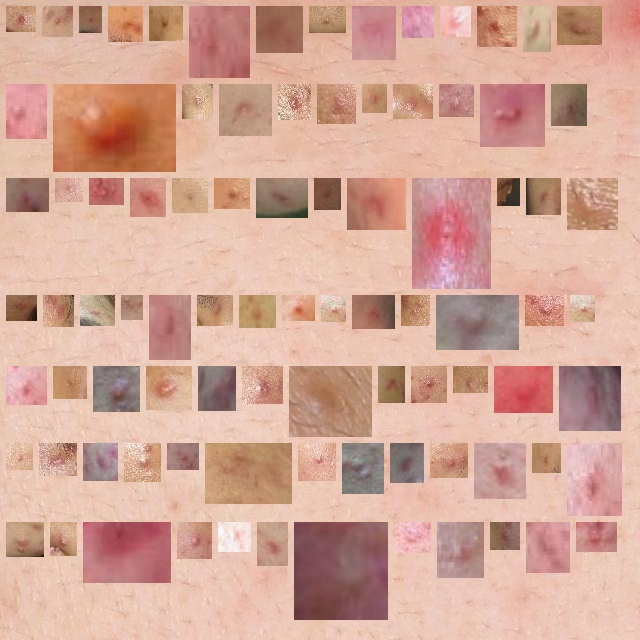papule: (61, 92, 168, 164), (302, 530, 380, 612), (420, 186, 483, 281), (297, 374, 364, 429), (91, 530, 163, 575), (213, 451, 284, 496), (444, 303, 511, 342), (197, 14, 242, 70), (488, 92, 537, 139), (567, 374, 613, 423), (575, 451, 614, 508), (355, 186, 398, 222), (482, 451, 518, 491), (502, 374, 545, 405), (227, 92, 264, 128), (157, 303, 183, 352), (575, 186, 610, 222), (445, 530, 476, 570), (360, 14, 388, 52), (534, 530, 562, 565), (14, 92, 39, 131), (264, 14, 295, 45), (101, 374, 132, 404), (350, 451, 376, 486), (264, 186, 300, 210), (154, 374, 184, 402), (565, 14, 594, 37), (206, 374, 228, 403), (485, 14, 509, 39), (14, 374, 39, 397), (10, 186, 41, 204), (325, 92, 348, 116), (250, 374, 275, 396), (559, 92, 579, 118), (360, 303, 387, 321), (306, 451, 328, 473), (132, 451, 153, 474), (138, 186, 158, 209), (401, 92, 425, 111), (398, 451, 416, 475), (419, 374, 439, 395), (265, 530, 280, 558), (91, 451, 110, 473), (438, 451, 460, 470), (14, 530, 36, 549), (534, 186, 553, 207), (185, 530, 204, 551), (116, 14, 135, 34), (180, 186, 200, 205), (47, 451, 69, 468), (531, 14, 543, 44), (247, 303, 268, 320), (584, 530, 609, 544), (533, 303, 556, 318), (157, 14, 175, 33), (286, 92, 303, 112), (447, 92, 466, 109), (461, 374, 480, 391), (402, 530, 423, 545), (61, 374, 79, 391), (222, 186, 242, 201), (205, 303, 225, 318), (190, 92, 205, 111), (88, 303, 107, 318), (410, 14, 426, 30), (51, 303, 66, 319), (226, 530, 243, 544), (317, 14, 338, 25), (386, 374, 397, 395), (50, 14, 65, 29), (448, 14, 463, 29), (97, 186, 116, 197), (58, 530, 69, 548), (409, 303, 422, 318), (540, 451, 553, 465), (322, 186, 333, 202), (175, 451, 191, 462), (290, 303, 307, 313), (498, 530, 512, 542), (14, 303, 29, 313), (14, 14, 28, 24), (14, 451, 25, 462), (370, 92, 379, 105), (329, 303, 338, 314), (578, 303, 587, 314), (63, 186, 75, 194), (505, 186, 512, 198), (87, 14, 94, 25), (129, 303, 135, 312)
